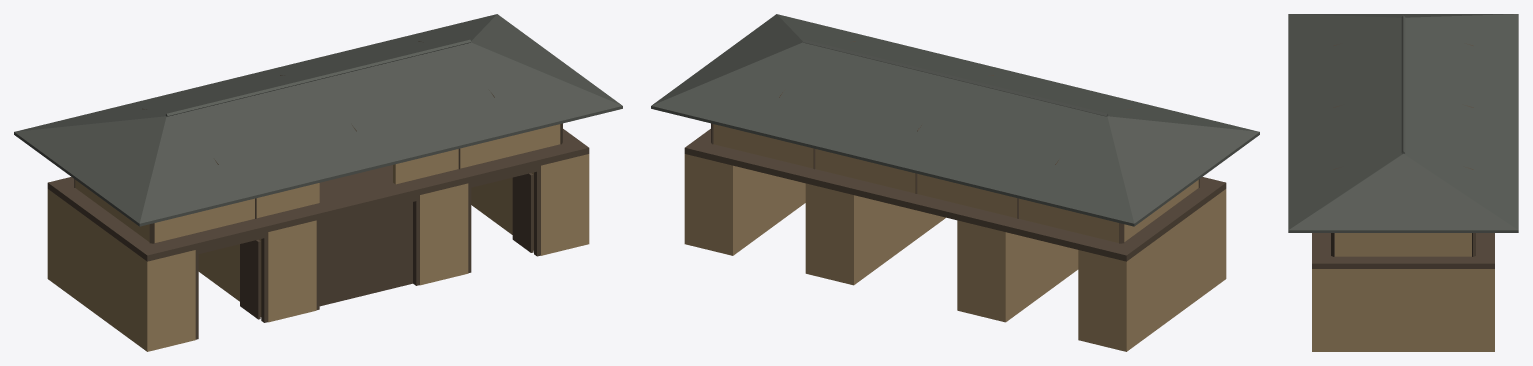
File: pingcheng-P-LOD2.glb
3 views of the same model, side by side, from view 1: azimuth 30°, elevation 25°; view 2: azimuth 150°, elevation 25°; view 3: azimuth 270°, elevation 25° (orthographic). The views are drawn at different scales.
Visible parts, largest first — view 1: pingcheng-P-static_tile, pingcheng-P-static_earth, pingcheng-P-static_timber; view 2: pingcheng-P-static_tile, pingcheng-P-static_earth, pingcheng-P-static_timber; view 3: pingcheng-P-static_tile, pingcheng-P-static_earth, pingcheng-P-static_timber.
Boxes of the visible parts, bbox=[...] form: pingcheng-P-static_tile: bbox=[14, 14, 622, 226]; pingcheng-P-static_earth: bbox=[47, 124, 589, 351]; pingcheng-P-static_timber: bbox=[47, 41, 589, 339]; pingcheng-P-static_tile: bbox=[651, 14, 1259, 226]; pingcheng-P-static_earth: bbox=[684, 124, 1226, 351]; pingcheng-P-static_timber: bbox=[684, 41, 1226, 261]; pingcheng-P-static_tile: bbox=[1288, 14, 1518, 232]; pingcheng-P-static_earth: bbox=[1312, 233, 1494, 351]; pingcheng-P-static_timber: bbox=[1312, 43, 1494, 268].
Size of the model in its own units: 28 by 10.24 by 12.6.
